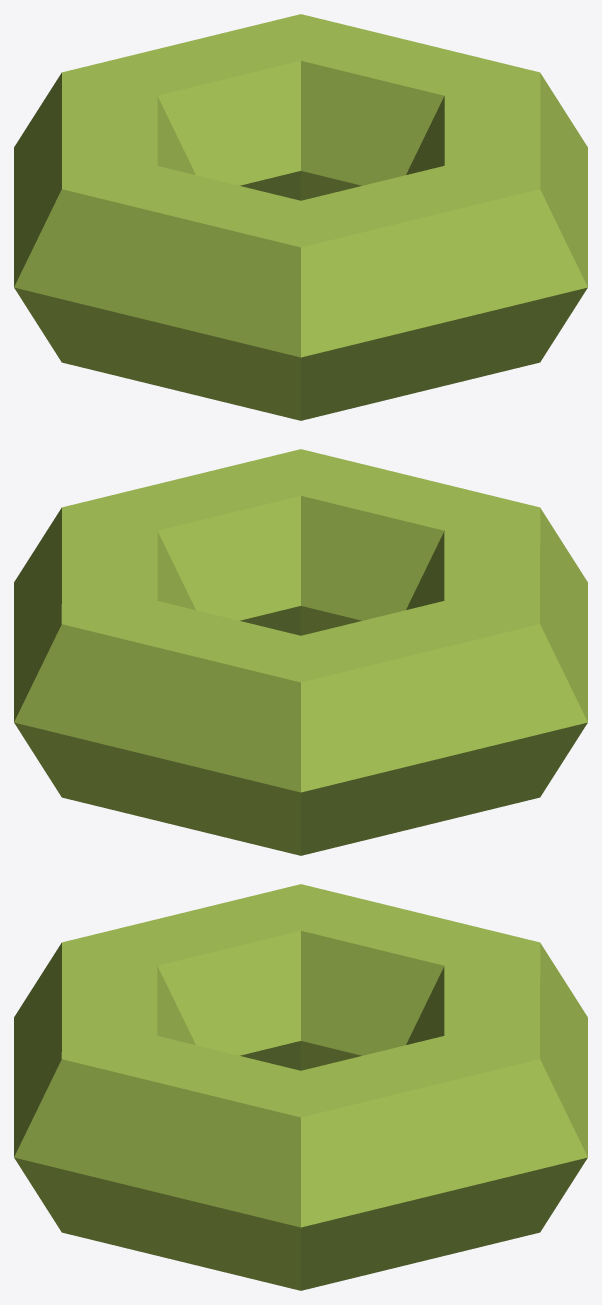
The model's file is burnt donut.fbx.
The picture shows the model from 3 angles, top to bottom: view 1: azimuth 30°, elevation 25°; view 2: azimuth 150°, elevation 25°; view 3: azimuth 270°, elevation 25°; orthographic projection.
Visible parts, largest first — view 1: Burnt_Donut; view 2: Burnt_Donut; view 3: Burnt_Donut.
Part boxes in pixels (x1,y1,x2,y2): Burnt_Donut: (14,14,587,420); Burnt_Donut: (14,449,587,855); Burnt_Donut: (14,884,587,1290).
Size of the model in its own units: 79.97 by 23.08 by 69.25.
